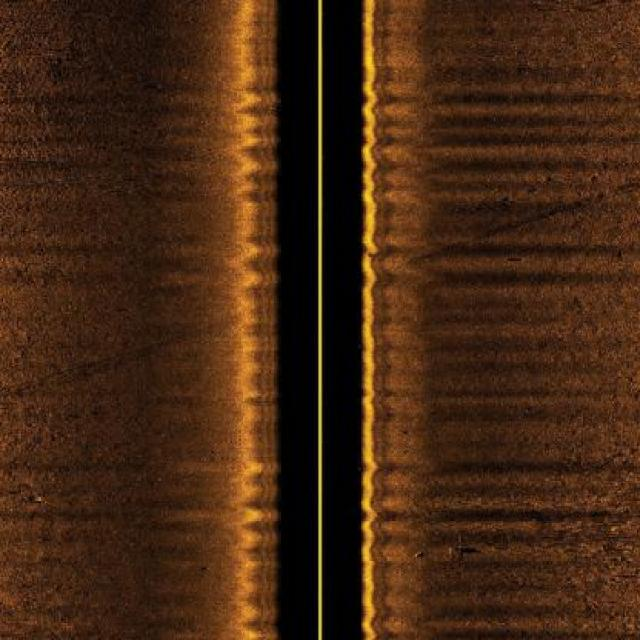mine: (412, 552, 426, 559)
other: (444, 546, 482, 554)
